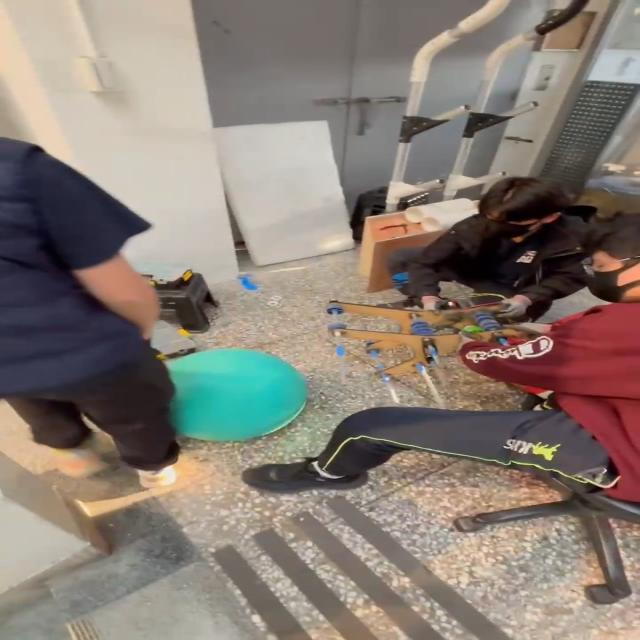ALGAE: (163, 347, 309, 442)
